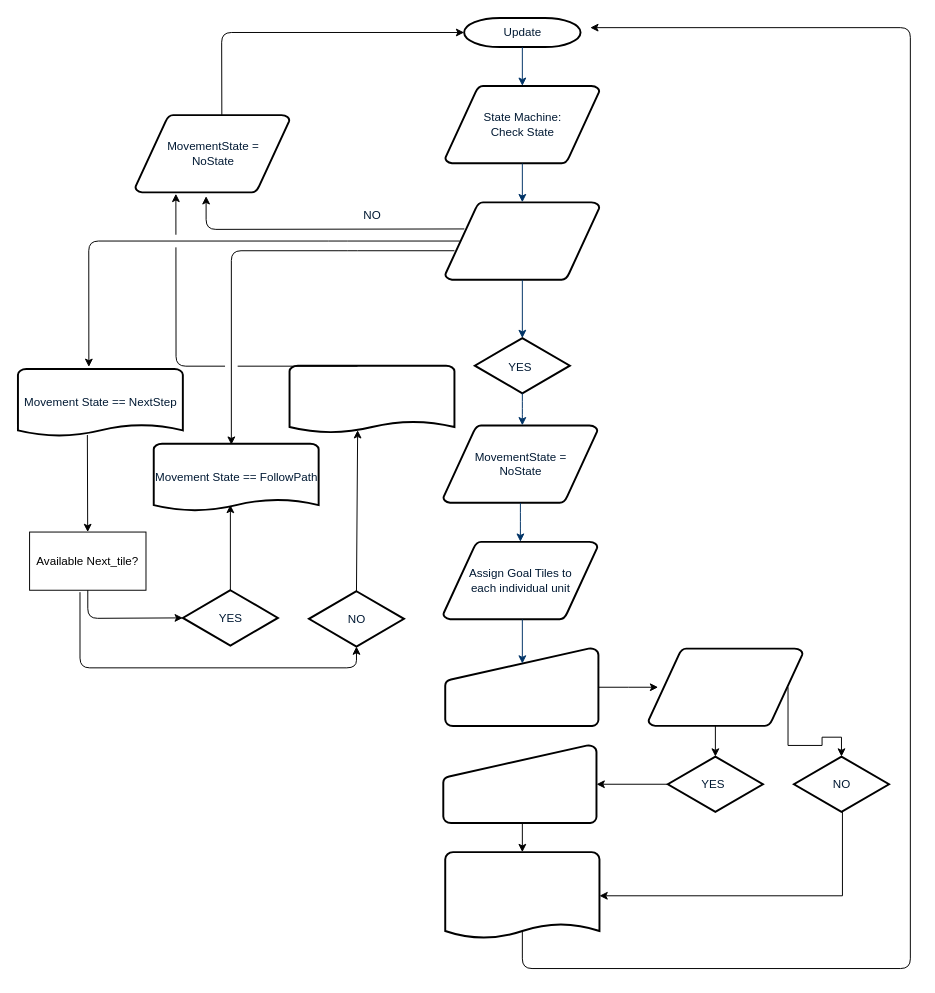
Some shapes in this 935 by 993 pixel diagram are drawn without their labels. Here are the shapes that lost their labels. From the top down, the centre of each, then its label:
point 522,240: Move Order?
point 371,399: Movement State == Destination Reached
point 521,687: Issue Path Request for each individual
point 725,687: Valid Path?
point 519,784: MovementState = NextStep
point 522,895: End of State Check
